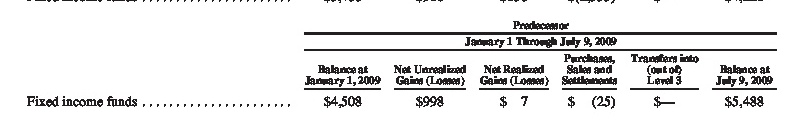table: (0, 0, 811, 129)
